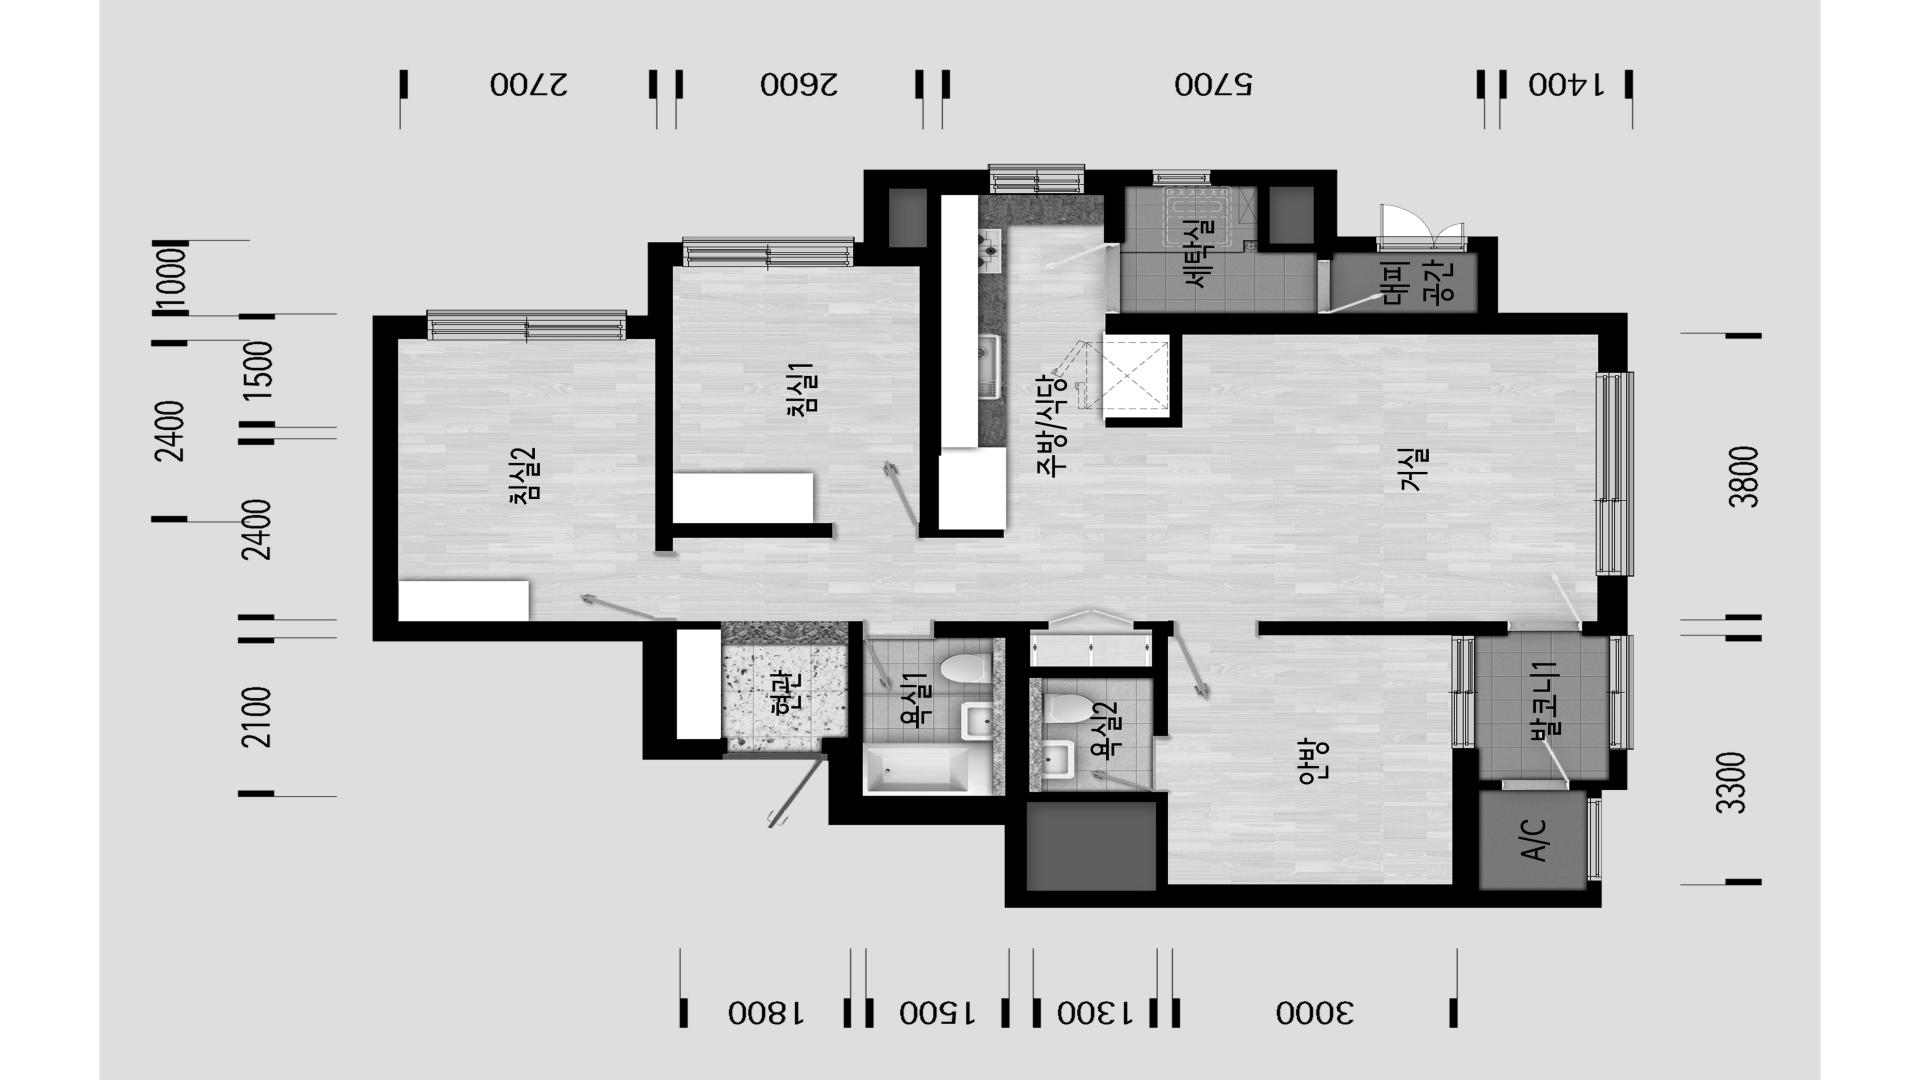door: (723, 735, 828, 828), (569, 548, 676, 618), (833, 458, 920, 538), (1174, 618, 1259, 698), (864, 618, 936, 696), (1501, 714, 1570, 790), (1509, 570, 1583, 635), (1090, 734, 1169, 789), (1317, 257, 1389, 309)
wall: (373, 312, 724, 759), (828, 735, 1603, 907), (935, 618, 1174, 884), (1105, 312, 1478, 428), (889, 195, 1003, 538), (656, 338, 833, 550), (1469, 234, 1628, 370), (1211, 170, 1377, 250), (854, 169, 989, 267), (1452, 747, 1501, 883), (627, 239, 683, 340), (1258, 619, 1509, 635), (1257, 184, 1315, 252), (847, 618, 865, 735), (1586, 748, 1628, 797), (1083, 170, 1155, 195), (1598, 574, 1628, 633), (1104, 194, 1126, 243), (676, 618, 721, 628), (1570, 778, 1587, 790), (1317, 250, 1334, 257)
window: (1595, 370, 1634, 574), (427, 310, 627, 341), (682, 234, 855, 268), (1376, 203, 1469, 252), (1452, 634, 1483, 747), (1609, 633, 1636, 748), (988, 163, 1085, 195), (1586, 797, 1603, 879), (1154, 171, 1212, 186)
